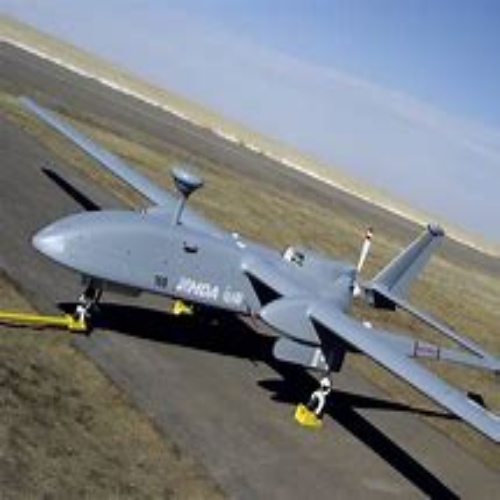uav117: (12, 91, 500, 447)
